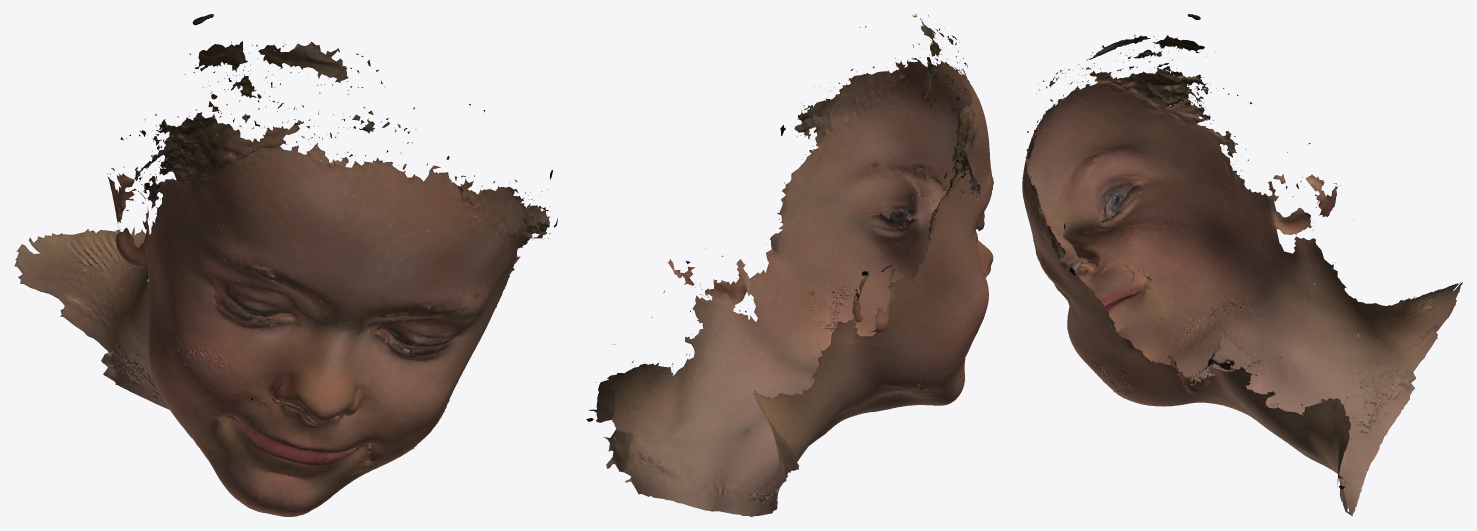
The model's file is 真人头像_儿童_幼儿面部扫描01_opt.glb.
The picture shows the model from 3 angles, left to right: view 1: azimuth 30°, elevation 25°; view 2: azimuth 150°, elevation 25°; view 3: azimuth 270°, elevation 25°; orthographic projection. The views are drawn at different scales.
Visible parts, largest first — view 1: material_0, material_0_1; view 2: material_0, material_0_1; view 3: material_0, material_0_1.
Part boxes in pixels (box(x1,y1,x2,y2)): material_0: box(14, 14, 557, 516); material_0_1: box(29, 14, 557, 516); material_0: box(586, 16, 993, 516); material_0_1: box(603, 15, 992, 516); material_0: box(1022, 14, 1462, 516); material_0_1: box(1023, 14, 1456, 513).
Bounding box in the file's own units: 0.2391 × 0.3059 × 0.3.
Materials: 1 (1 with a texture image).
